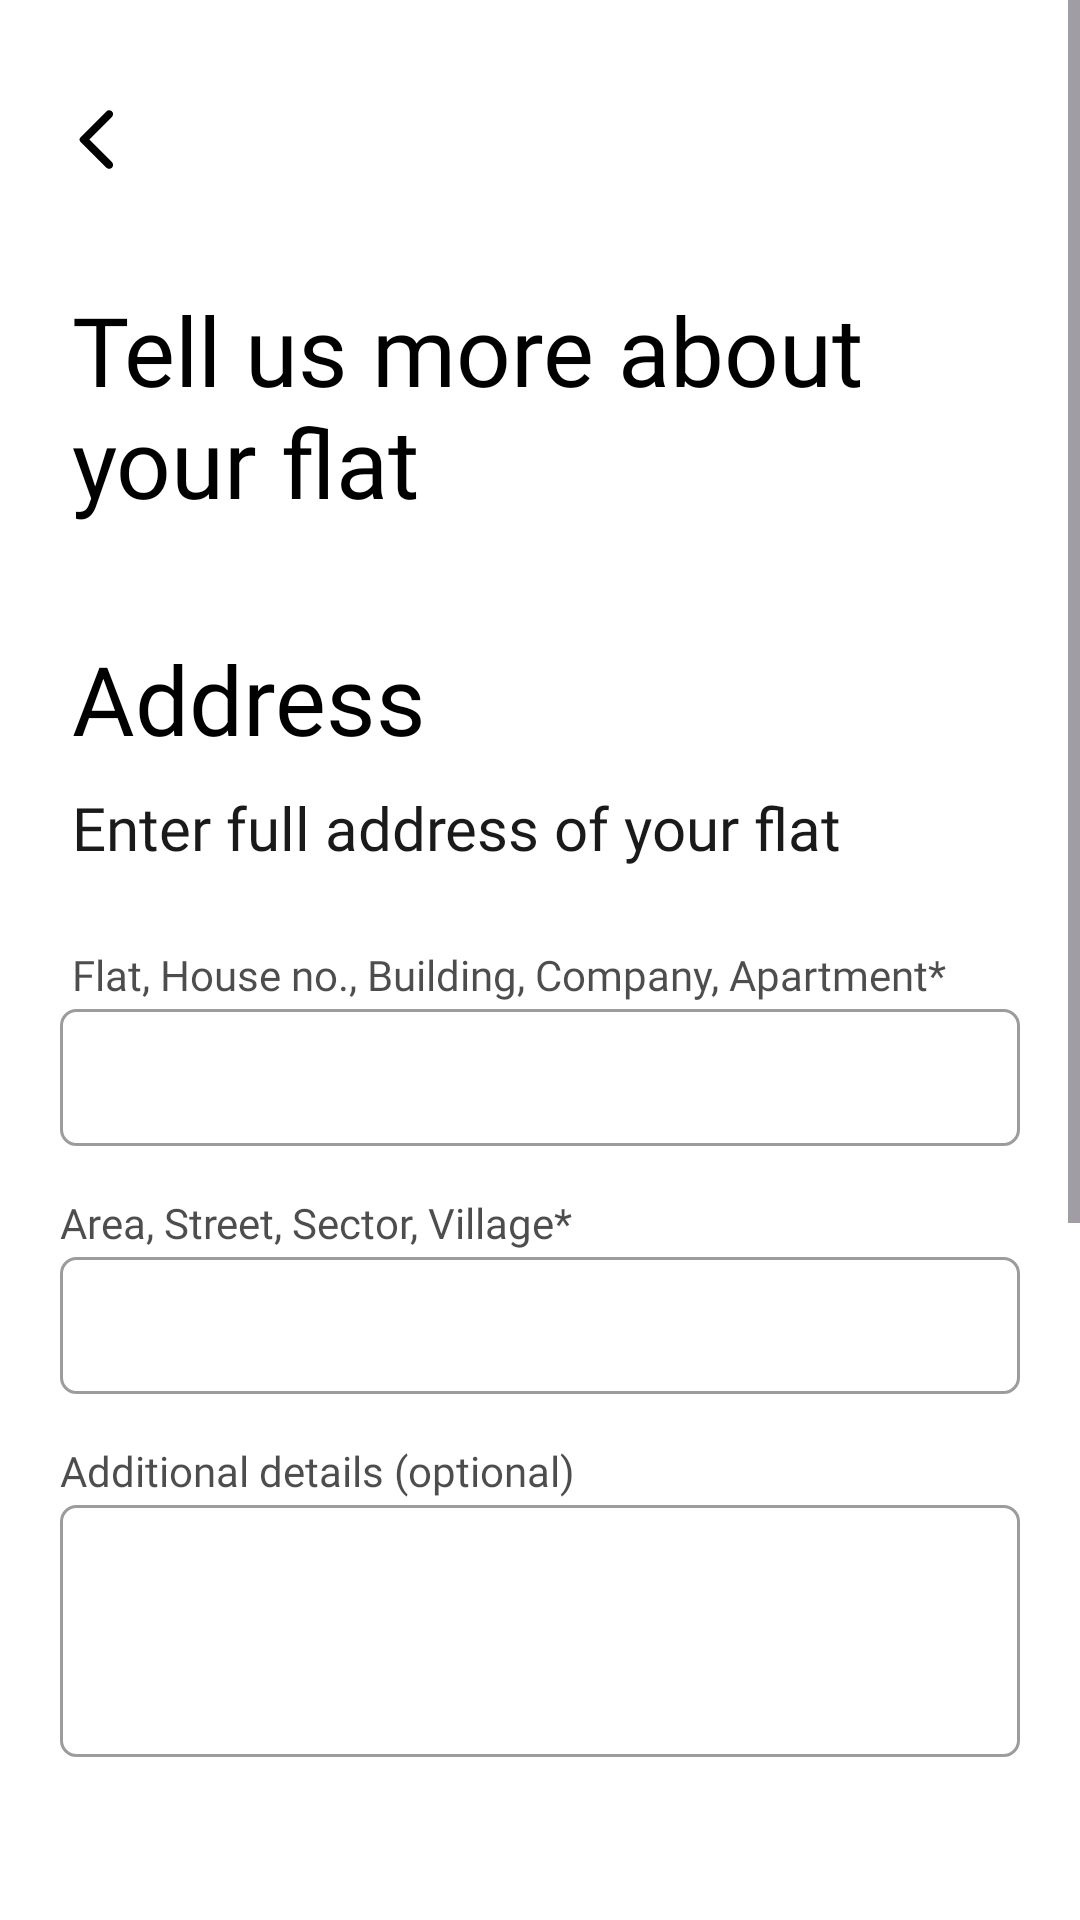

Where to tap for icons on this 1080 × 1920 app screen, as point (x, y):
arrow back: point (96, 139)
